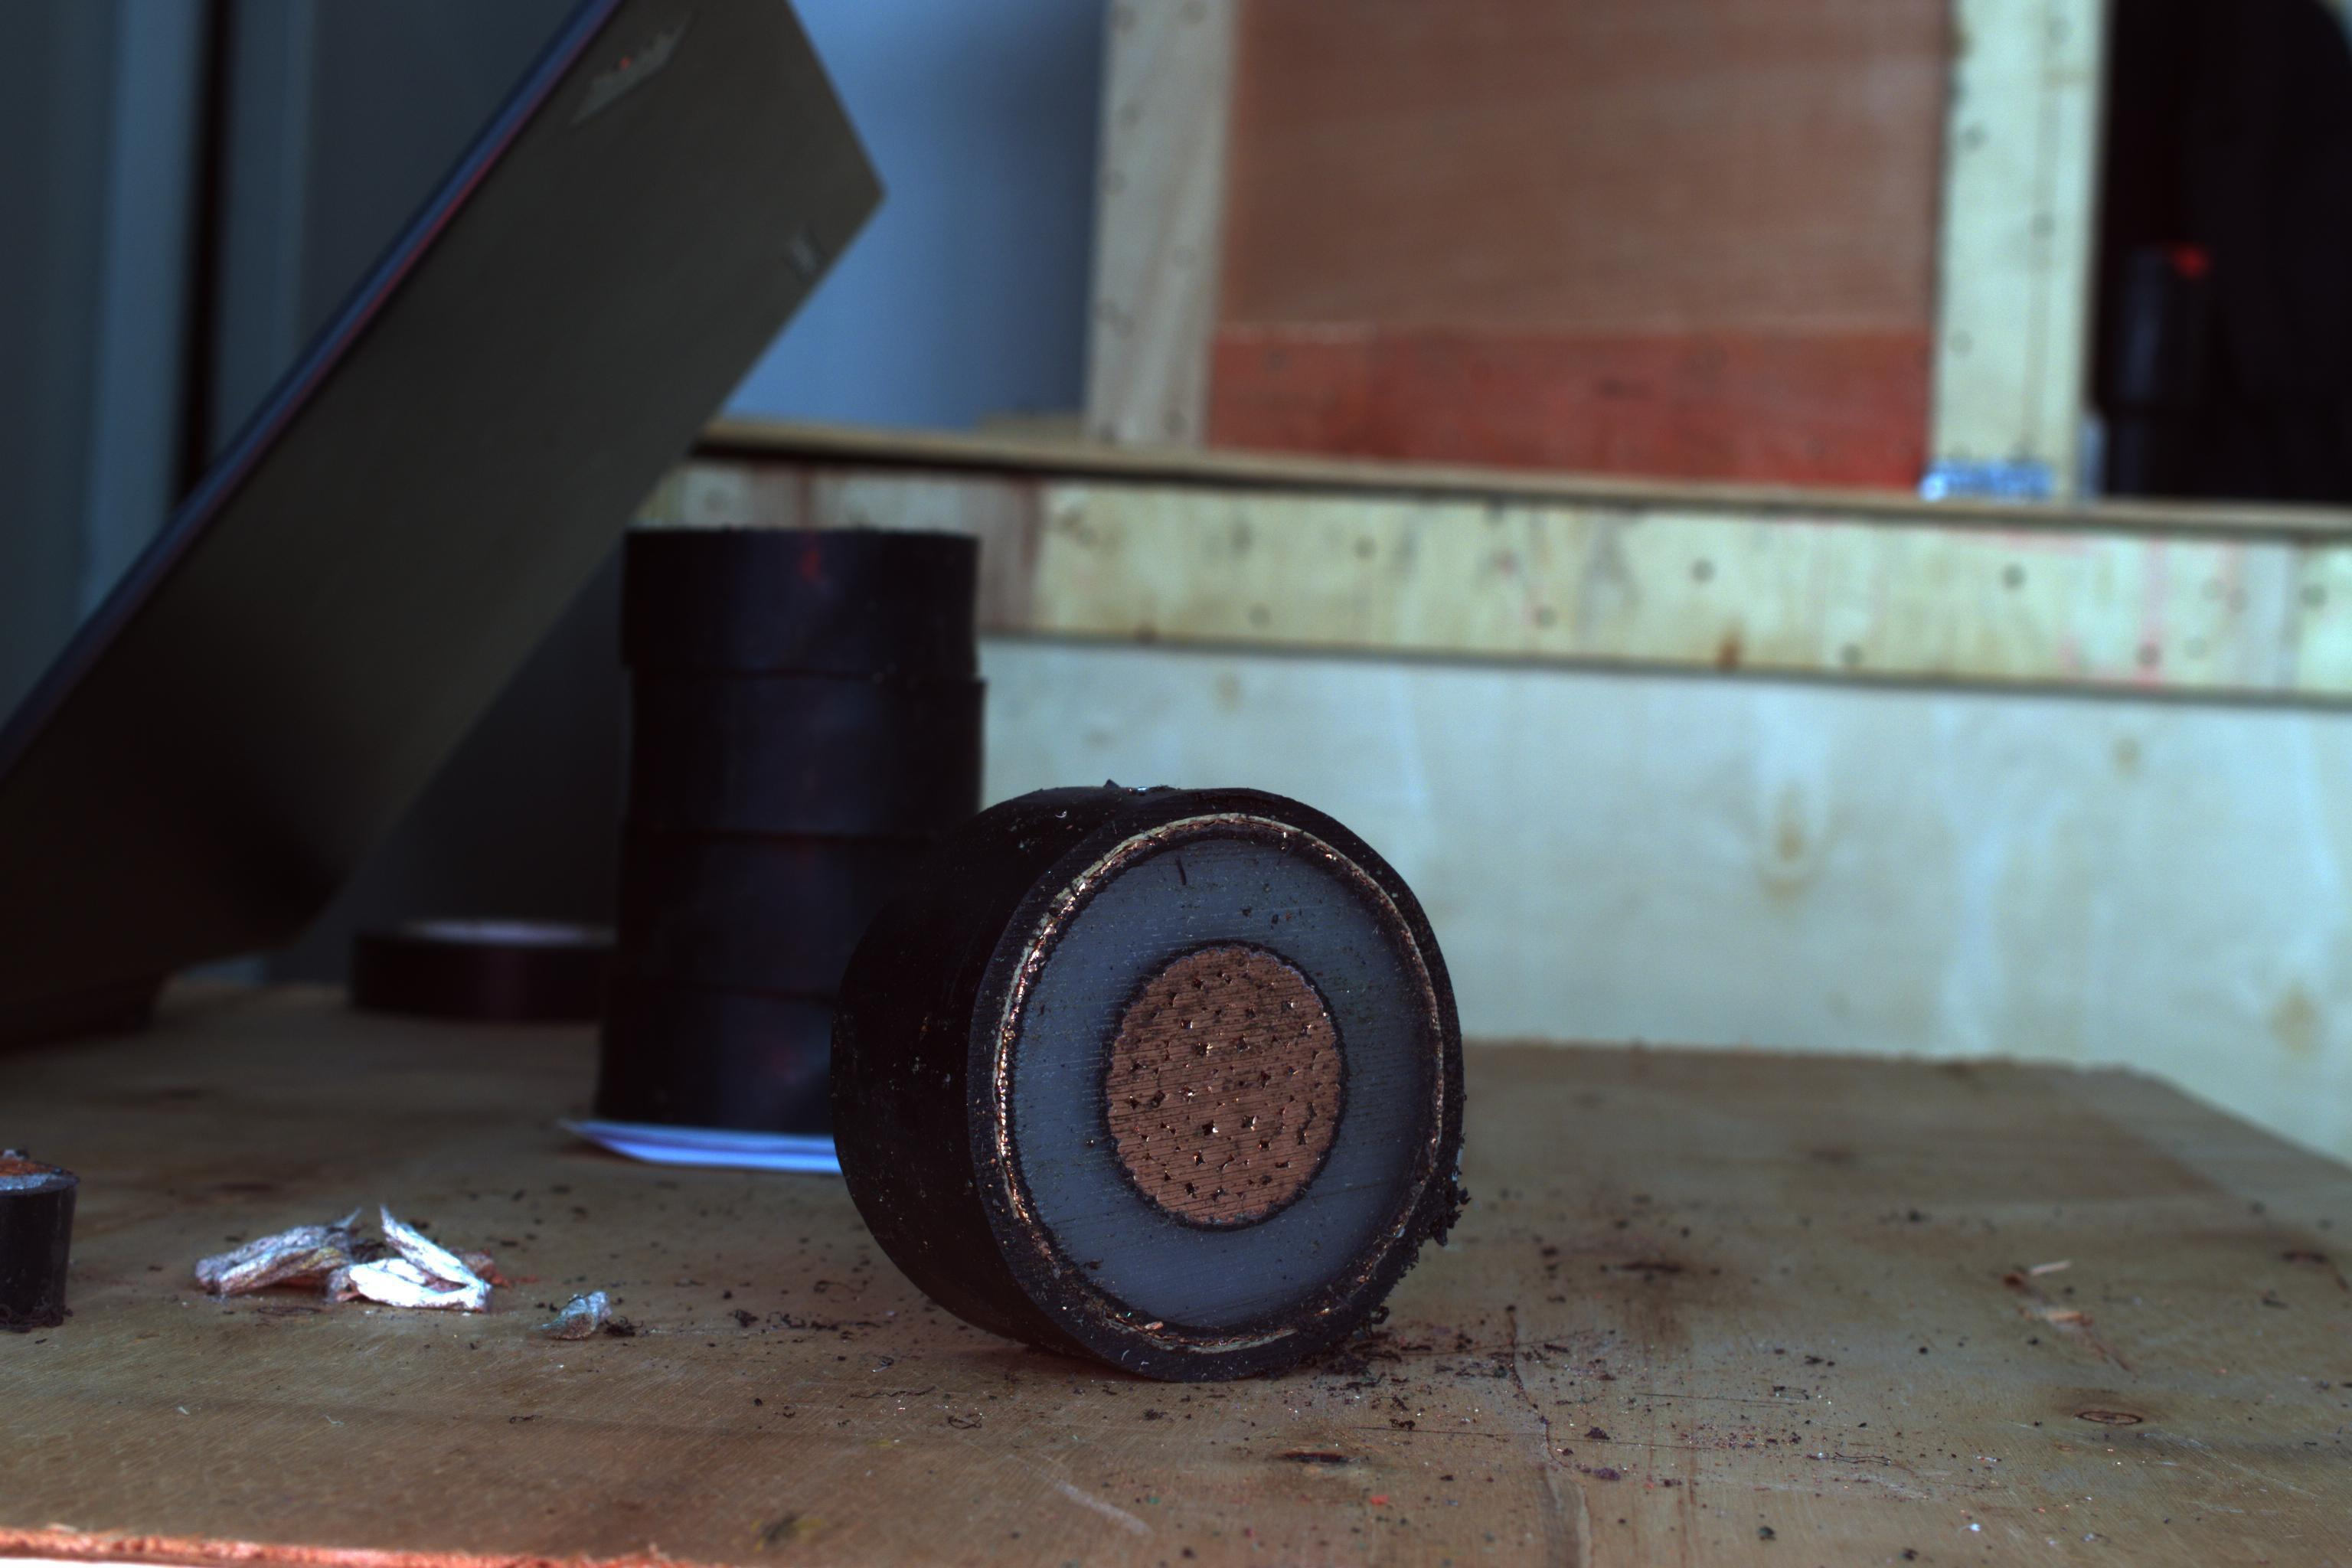YJV_26_35kV_1x630: (950, 779, 1473, 1393)
